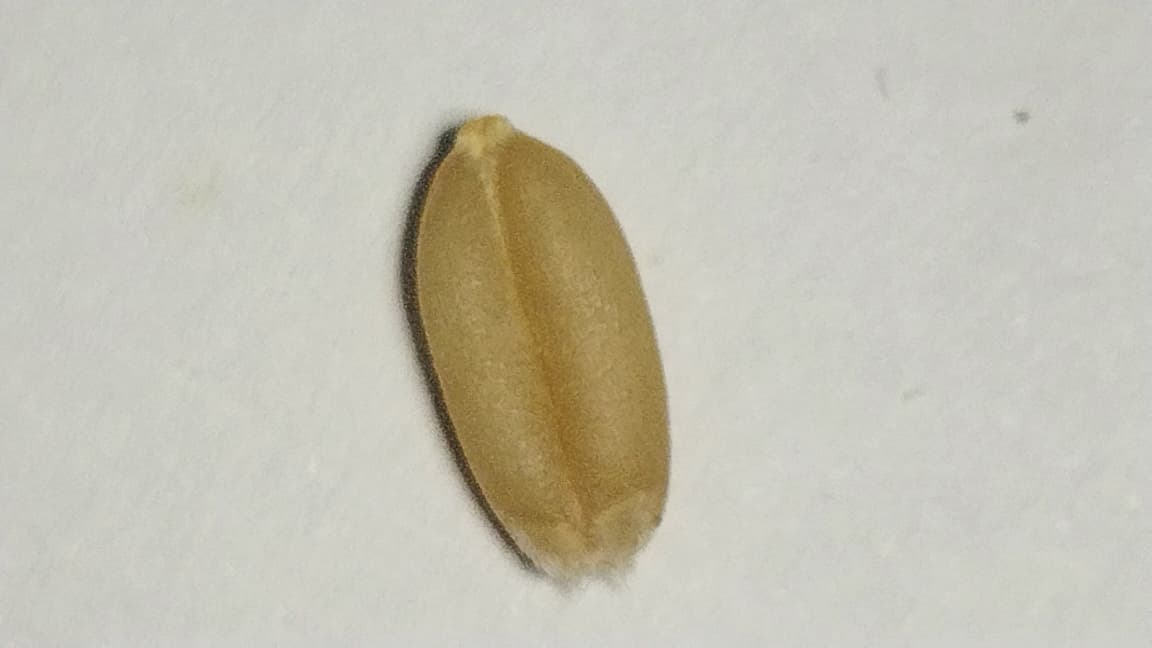healthy: (414, 116, 668, 576)
